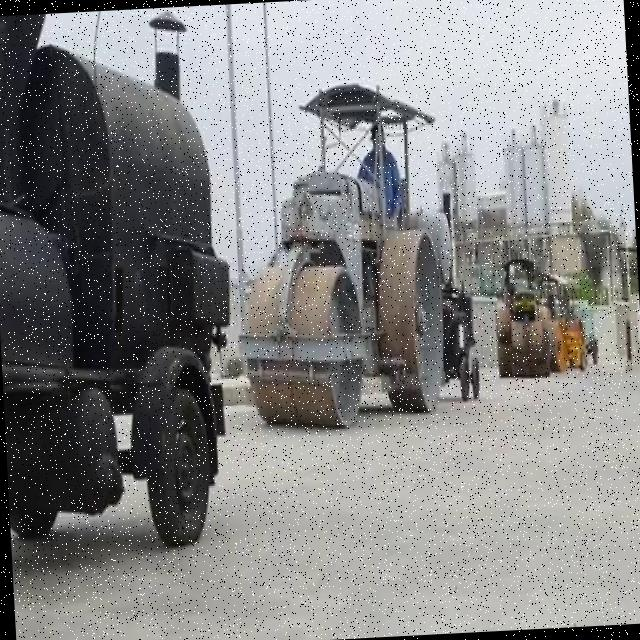Roller: (220, 65, 450, 432), (484, 256, 546, 376), (540, 264, 591, 368)
